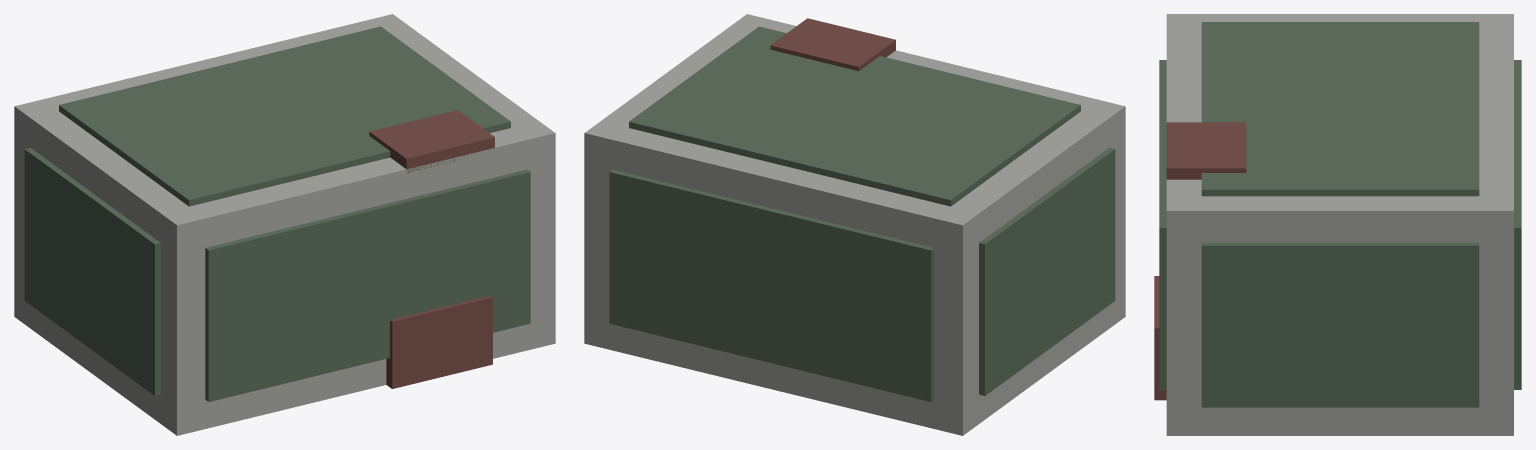
The model's file is oc_long_crate.obj.
3 renders of one model, left to right at view 1: azimuth 30°, elevation 25°; view 2: azimuth 150°, elevation 25°; view 3: azimuth 270°, elevation 25°, orthographic. The views are drawn at different scales.
Parts seen in each view (by area): view 1: oc_long_crate_0, oc_long_crate_2, oc_long_crate_1, oc_long_crate_4, oc_long_crate_7, oc_long_crate_6; view 2: oc_long_crate_0, oc_long_crate_3, oc_long_crate_1, oc_long_crate_4, oc_long_crate_6; view 3: oc_long_crate_0, oc_long_crate_1, oc_long_crate_5, oc_long_crate_6, oc_long_crate_2, oc_long_crate_3, oc_long_crate_7.
Boxes of the visible parts, x1,y1,x2,y2 form: oc_long_crate_0: (14, 14, 555, 435); oc_long_crate_2: (205, 169, 530, 401); oc_long_crate_1: (59, 26, 510, 206); oc_long_crate_4: (24, 147, 160, 395); oc_long_crate_7: (386, 295, 492, 388); oc_long_crate_6: (369, 110, 494, 173); oc_long_crate_0: (584, 14, 1125, 435); oc_long_crate_3: (609, 169, 934, 401); oc_long_crate_1: (629, 26, 1080, 206); oc_long_crate_4: (979, 147, 1115, 395); oc_long_crate_6: (770, 18, 895, 70); oc_long_crate_0: (1166, 14, 1513, 435); oc_long_crate_1: (1201, 22, 1479, 196); oc_long_crate_5: (1201, 242, 1479, 407); oc_long_crate_6: (1166, 122, 1246, 179); oc_long_crate_2: (1159, 60, 1166, 389); oc_long_crate_3: (1514, 60, 1521, 389); oc_long_crate_7: (1154, 276, 1166, 400).
Size of the model in its own units: 0.97 by 0.525 by 0.74.
